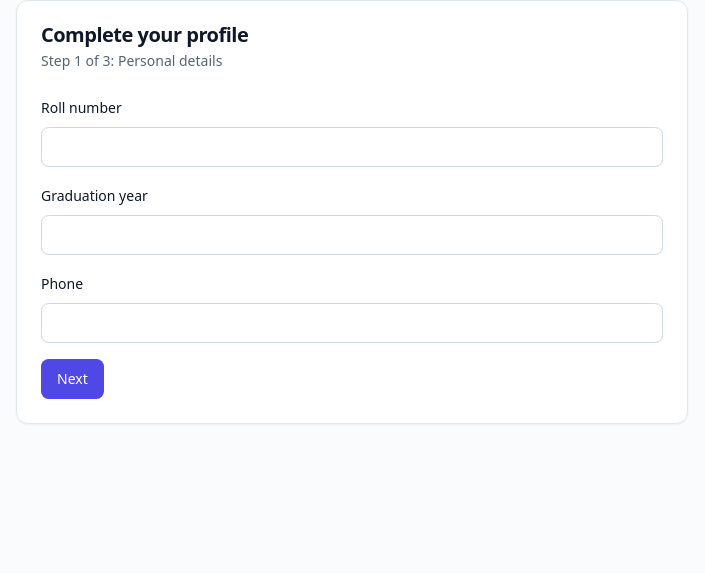
Test: OnboardingWizard › requires an academic record before moving to department
Type "21CS001" into the field labelled "Roll number" at (352, 147), box [41, 127, 663, 167]
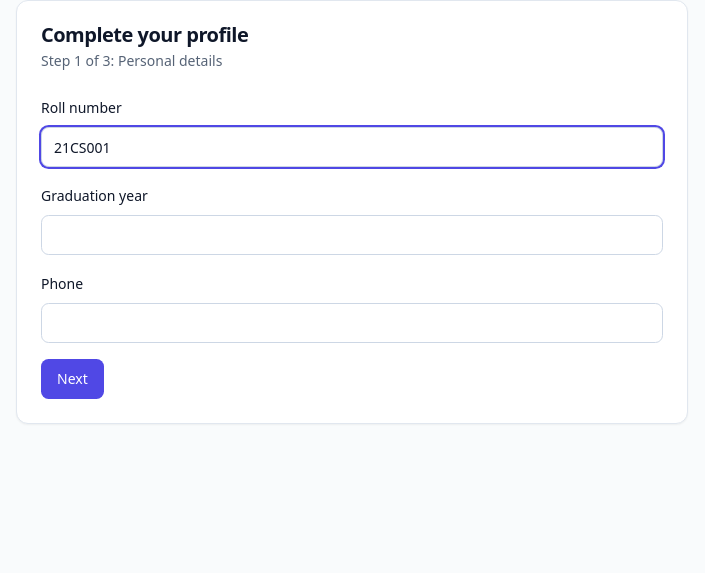
Type "2026" into the field labelled "Graduation year" at (352, 235), box [41, 215, 663, 255]
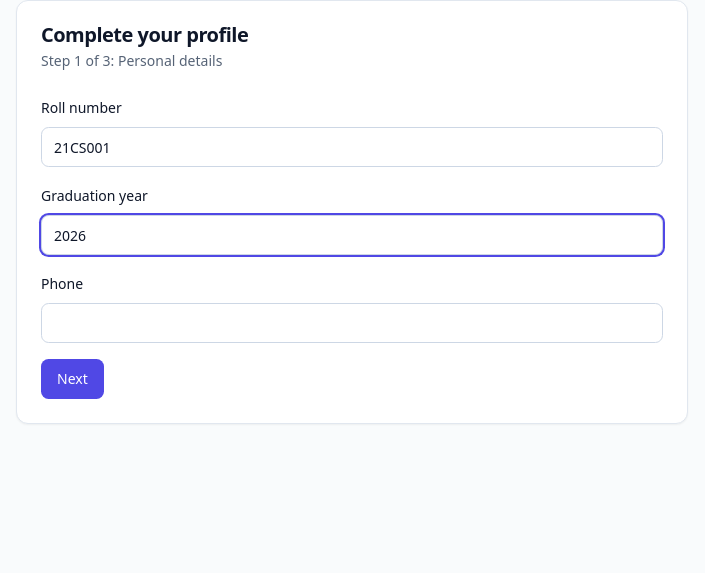
Type "9876543210" into the field labelled "Phone" at (352, 323), box [41, 303, 663, 343]
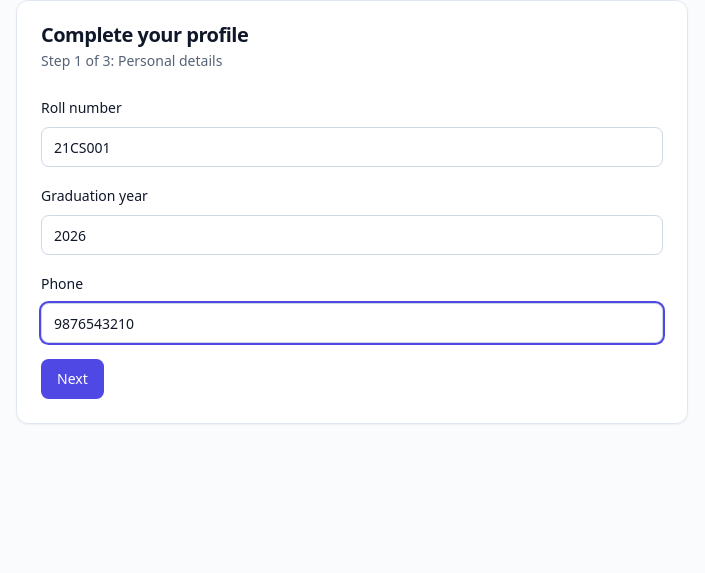
Click the button "Next" at (72, 379), box [41, 359, 104, 399]
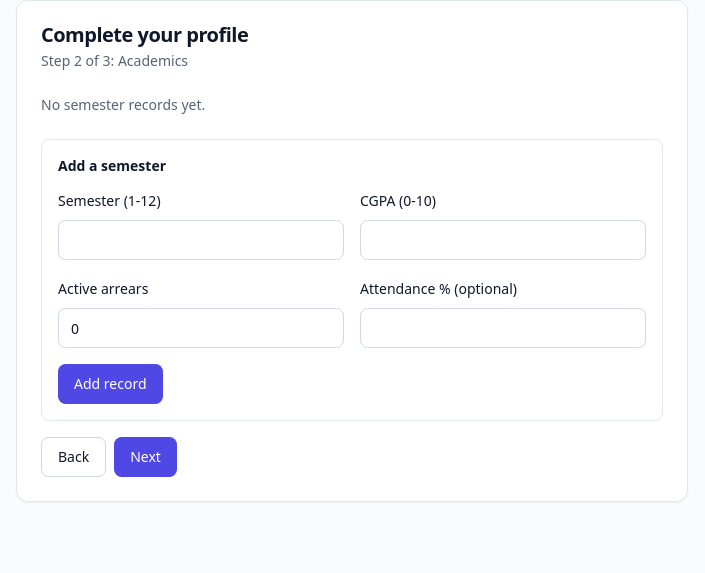
Expected: the text "No semester records yet." is shown, [41, 95, 205, 114]
Click the button "Next" at (146, 457), box [114, 437, 177, 477]
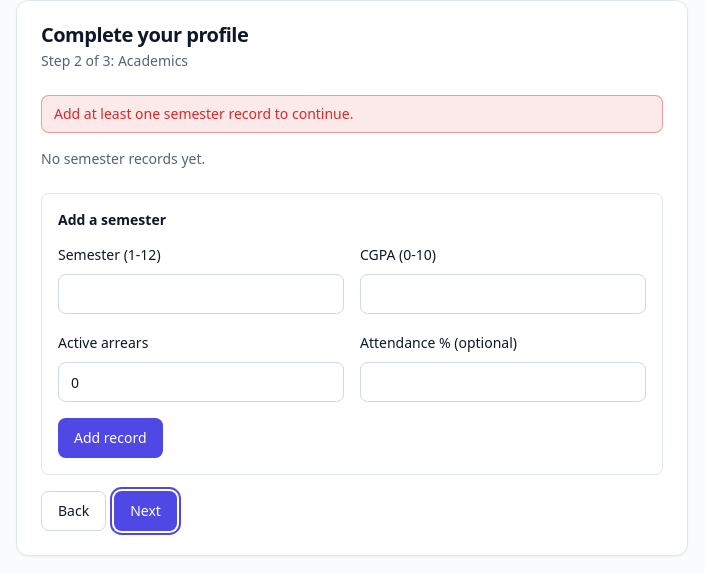
Expected: the message shows "Add at least one semester record", [54, 104, 353, 123]
